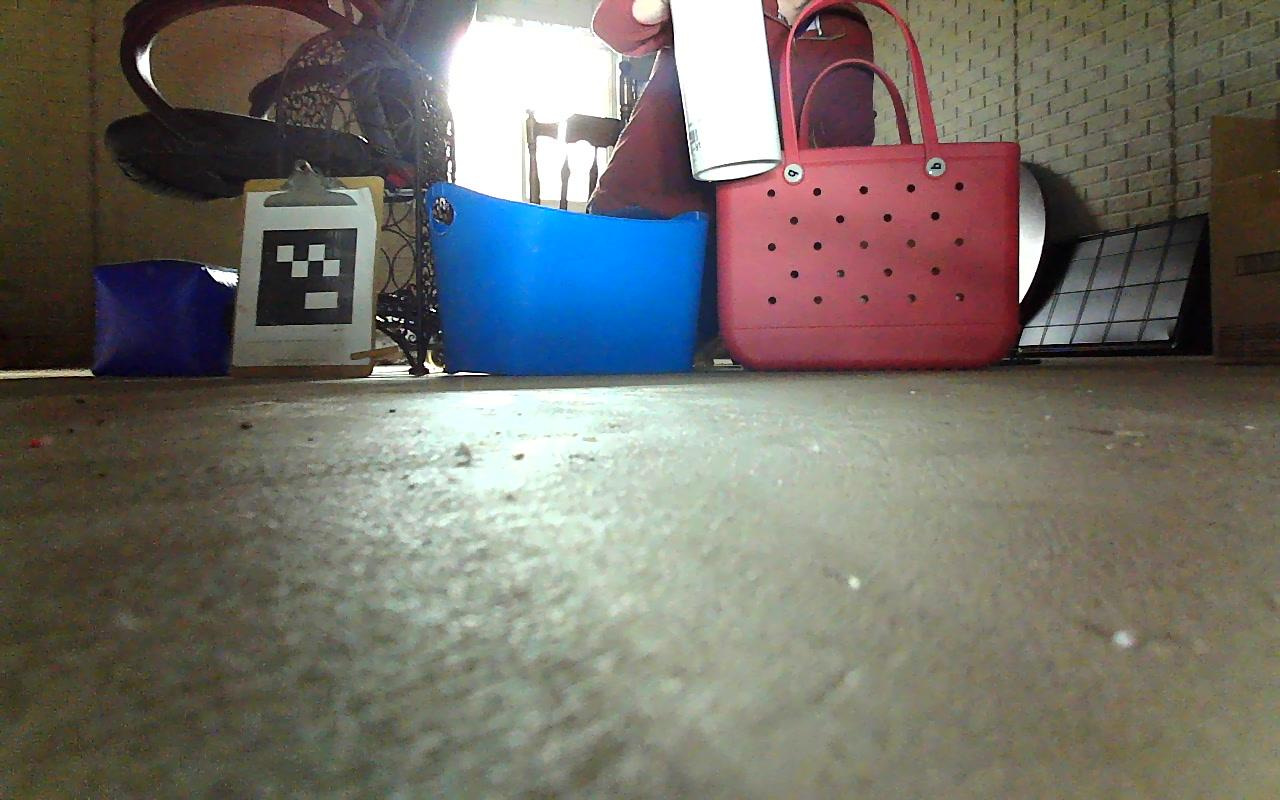coral: (665, 0, 787, 192)
